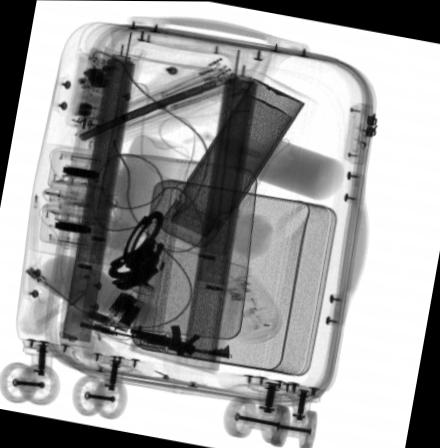Gun: (78, 320, 231, 358)
HandCuffs: (106, 208, 167, 289)
